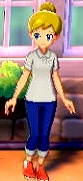woman_no_egg: (5, 2, 76, 180)
